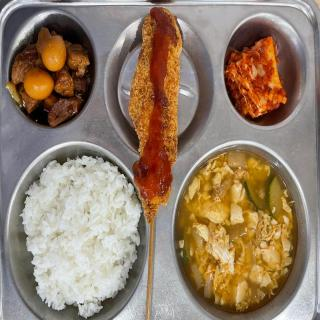Nasi: (22, 155, 135, 320)
